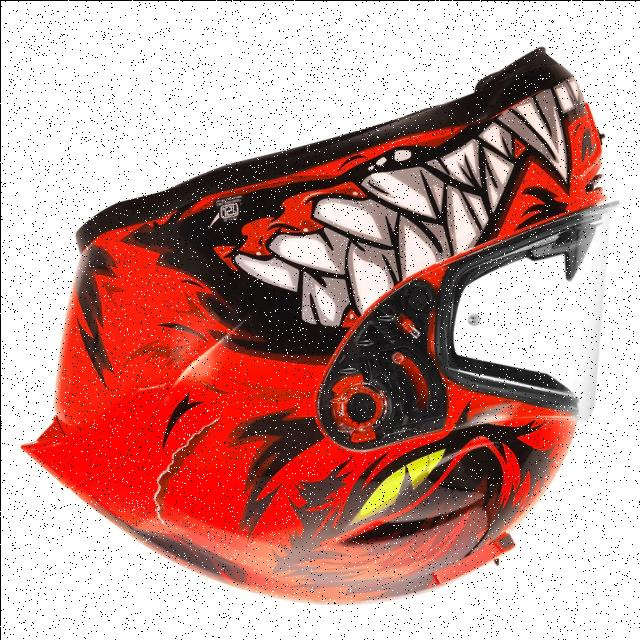Helmet: (9, 44, 632, 606)
